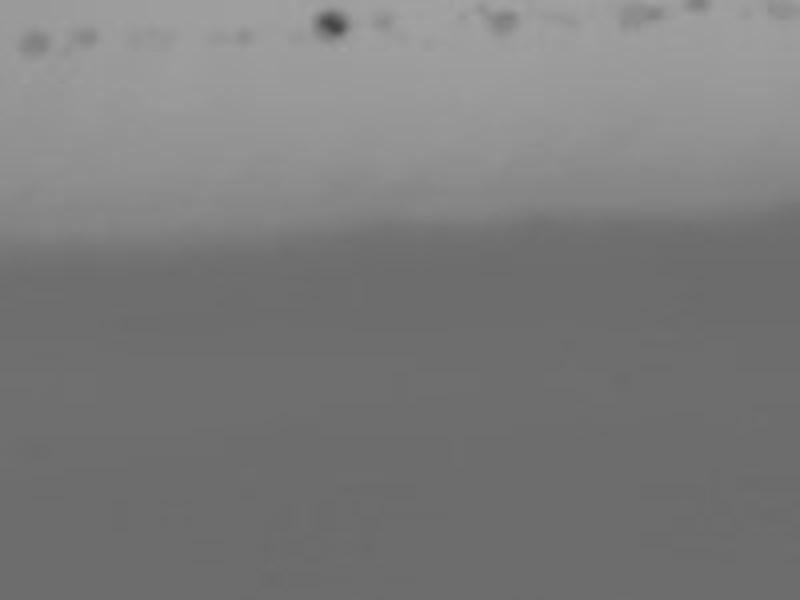defect: (124, 26, 180, 49), (619, 3, 662, 32), (313, 10, 349, 42), (488, 10, 519, 40), (209, 26, 253, 46), (18, 29, 49, 56), (678, 1, 722, 18), (367, 10, 396, 34), (70, 23, 97, 48), (771, 2, 800, 21), (453, 12, 473, 25)
